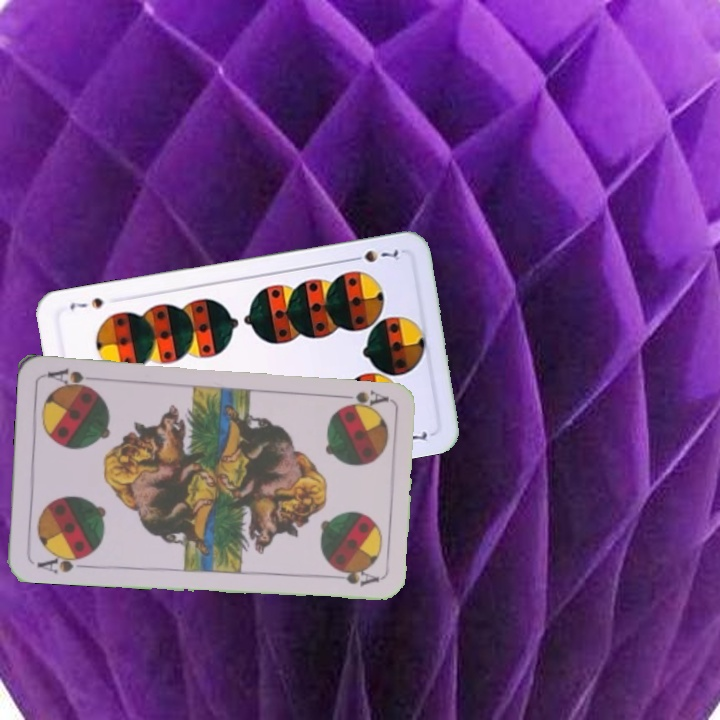S7: (345, 245, 404, 265)
SA: (33, 548, 91, 576), (331, 386, 391, 408)
